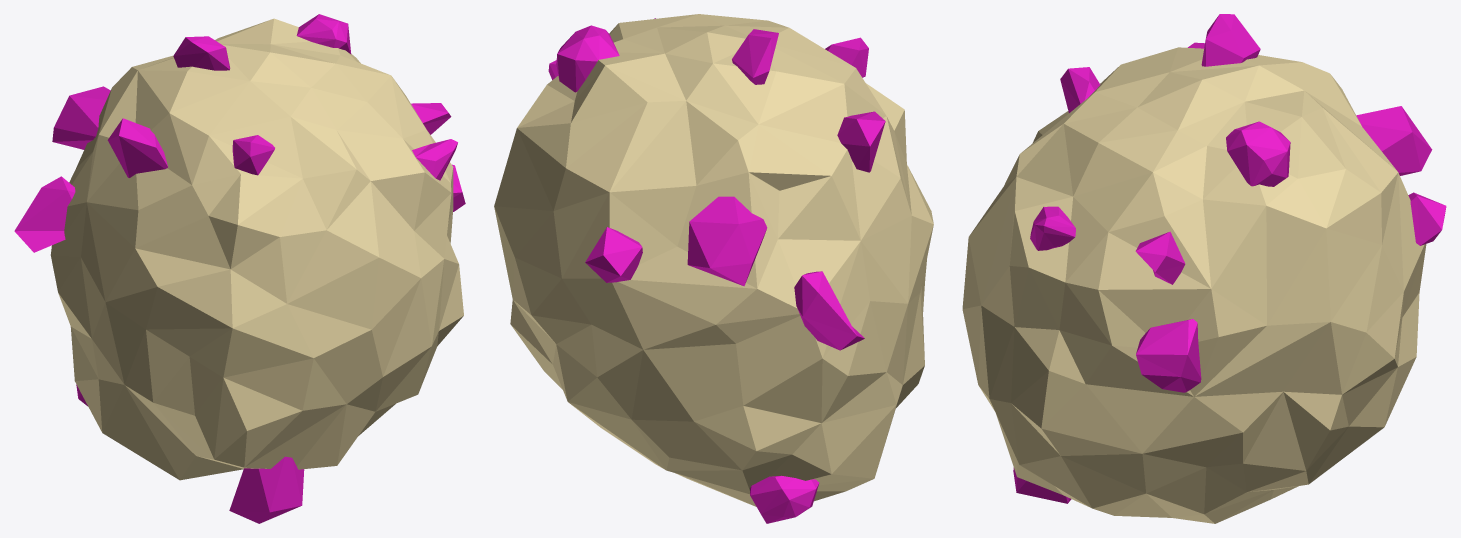
The model's file is CrystalOre (53).fbx.
3 renders of one model, left to right at view 1: azimuth 30°, elevation 25°; view 2: azimuth 150°, elevation 25°; view 3: azimuth 270°, elevation 25°, orthographic. The views are drawn at different scales.
Parts seen in each view (by area): view 1: Asteroid273; view 2: Asteroid273; view 3: Asteroid273.
Part boxes in pixels (x1,y1,x2,y2): Asteroid273: (14,14,465,523); Asteroid273: (494,14,933,523); Asteroid273: (962,14,1446,523).
Bounding box in the file's own units: 548 × 590 × 533.
